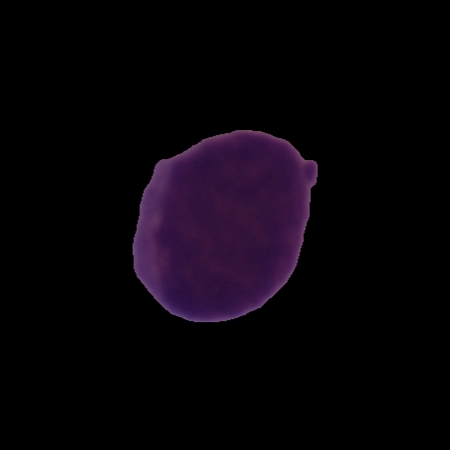ALL: (129, 126, 321, 325)
